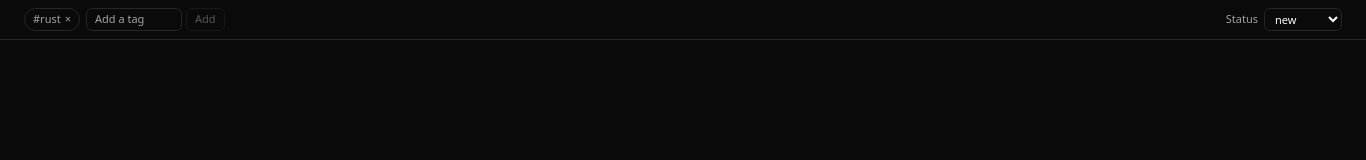
Scenario: NoteMeta › keeps the reason on screen when a write is refused, and the draft with it
Type "later" into the field labelled "Add a tag" at (134, 20), box [86, 8, 182, 31]
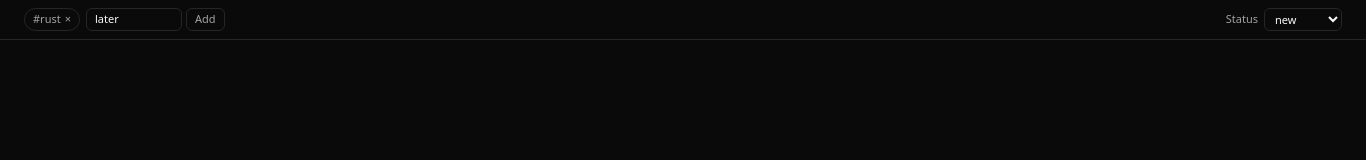
Click the button "Add" at (205, 20), box [186, 8, 225, 31]
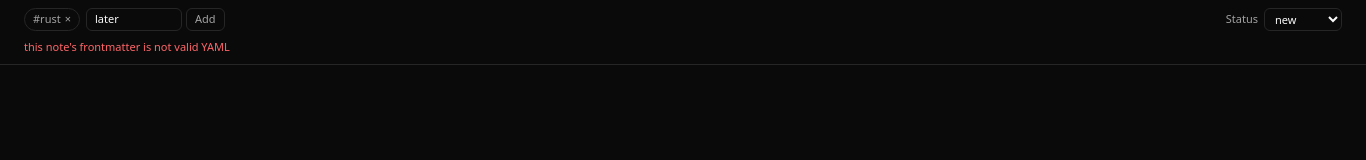
Check: the message reads "this note's frontmatter is not valid YAML", box [24, 39, 230, 54]
